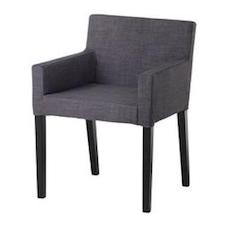chair: (5, 5, 210, 216)
